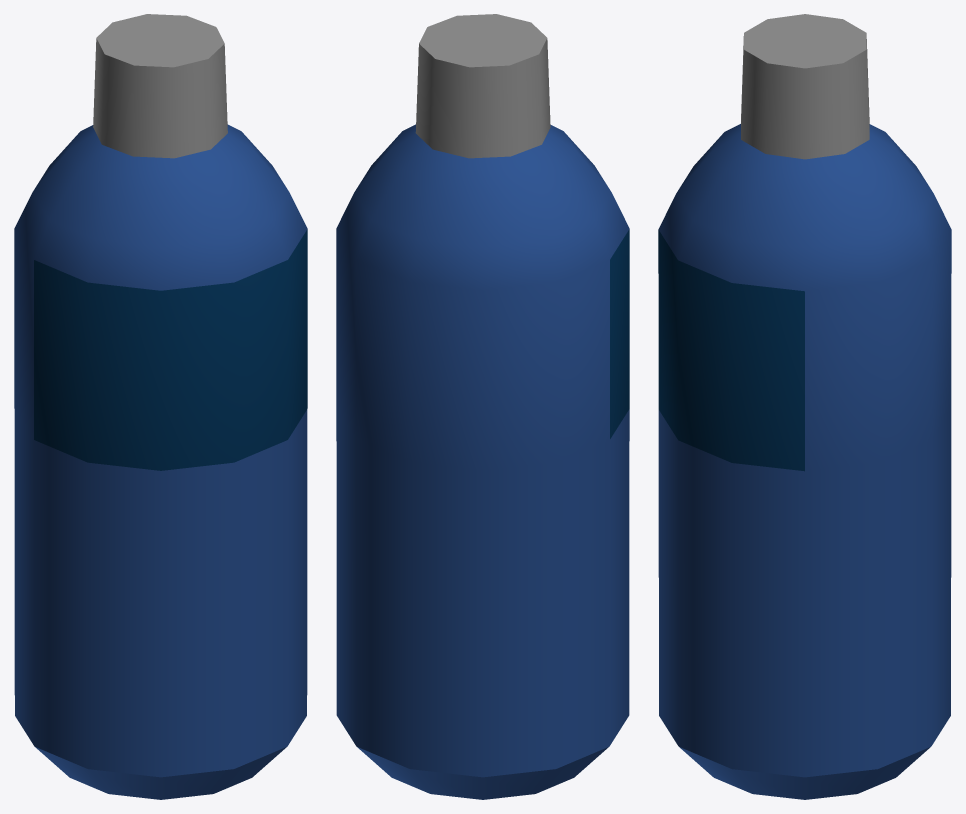
The model's file is bottle_water_01.fbx.
3 renders of one model, left to right at view 1: azimuth 30°, elevation 25°; view 2: azimuth 150°, elevation 25°; view 3: azimuth 270°, elevation 25°, orthographic.
Visible parts, largest first — view 1: bottle_water_01; view 2: bottle_water_01; view 3: bottle_water_01.
Boxes of the visible parts, x1,y1,x2,y2 form: bottle_water_01: (14, 14, 307, 799); bottle_water_01: (336, 14, 629, 799); bottle_water_01: (658, 14, 951, 799).
Bounding box in the file's own units: 24.57 × 66.06 × 24.57.
